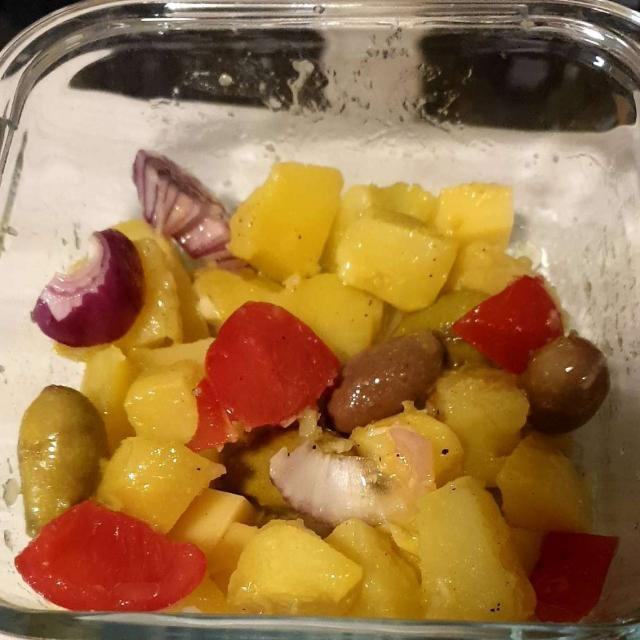green-olives: (18, 329, 610, 523)
onion: (21, 144, 437, 516)
potatoes: (61, 160, 586, 622)
